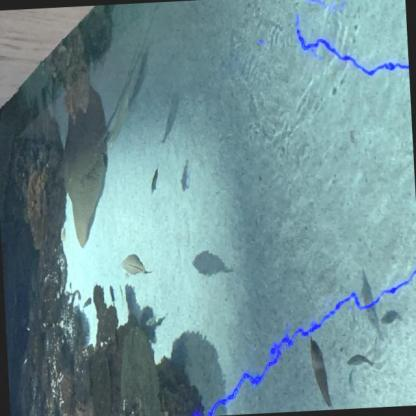fish: (307, 334, 334, 409), (120, 253, 150, 280), (347, 349, 374, 374), (147, 166, 160, 196), (107, 284, 116, 308), (83, 296, 93, 308)
stingray: (60, 81, 114, 248)
